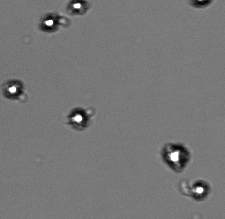Dead Cell: (186, 1, 214, 8)
Living Cell: (161, 142, 191, 172), (68, 106, 89, 129), (3, 79, 25, 98), (191, 179, 210, 201), (39, 12, 59, 32), (66, 1, 89, 15)
